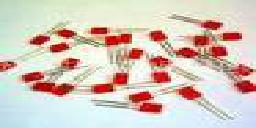LED: (91, 99, 184, 116), (198, 16, 223, 34), (149, 69, 175, 86), (20, 69, 49, 83), (57, 28, 85, 42), (179, 87, 202, 102), (89, 84, 119, 94), (109, 68, 128, 83), (30, 35, 50, 48), (91, 25, 111, 37)
